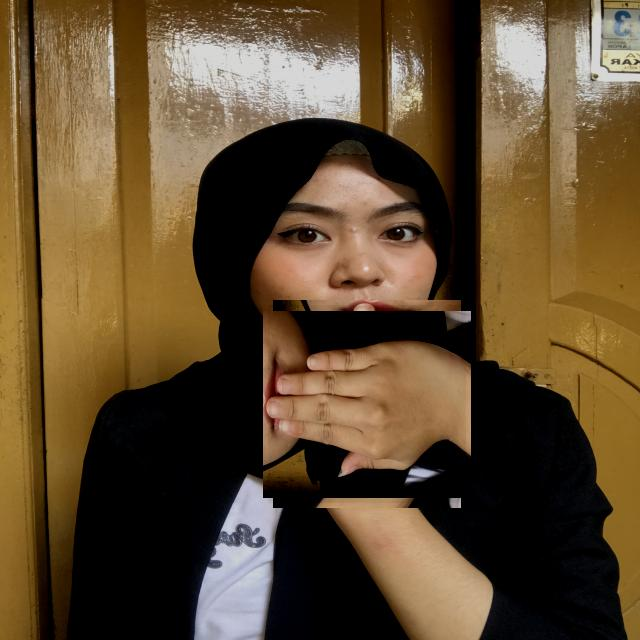ganteng: (268, 305, 466, 503)
